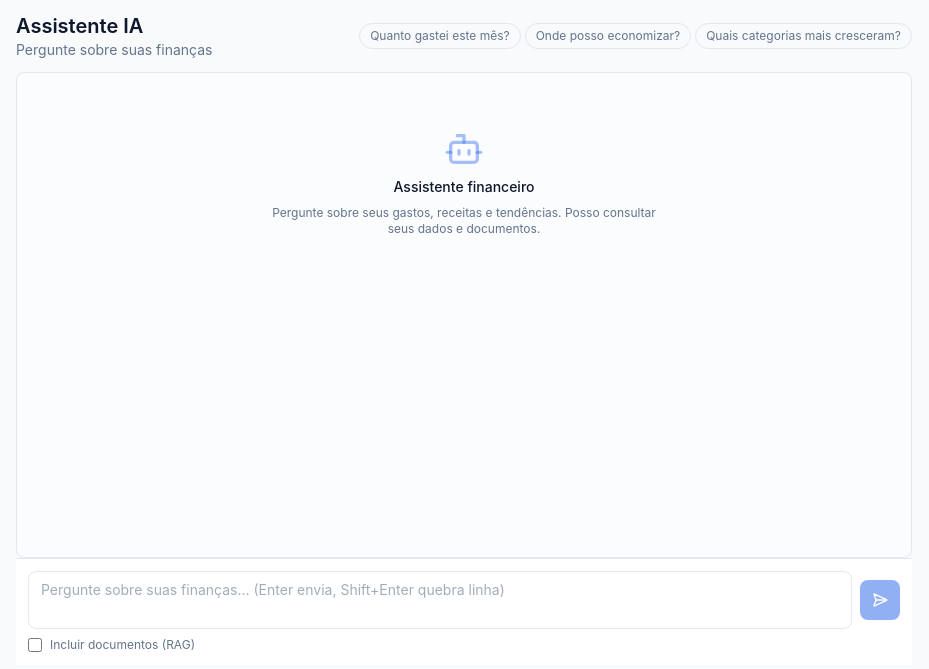
ChatView › envia pergunta e exibe resposta com sources
Replace the text in the text box with test id "chat-input" with "quanto gastei?": {"x": 440, "y": 600} [28, 571, 852, 629]
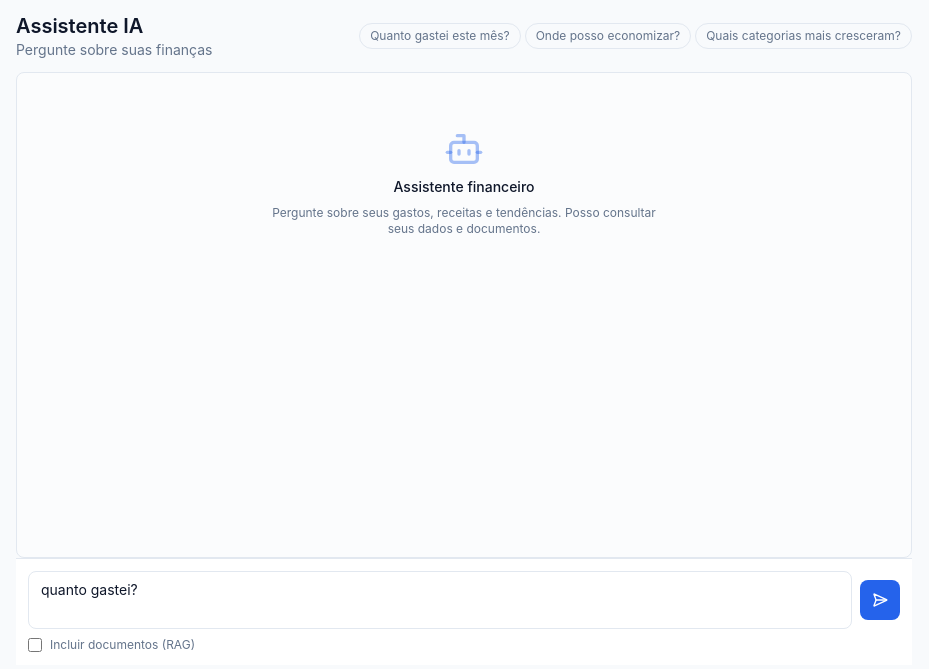
Click the button with test id "chat-send": {"x": 880, "y": 600} [860, 580, 900, 620]
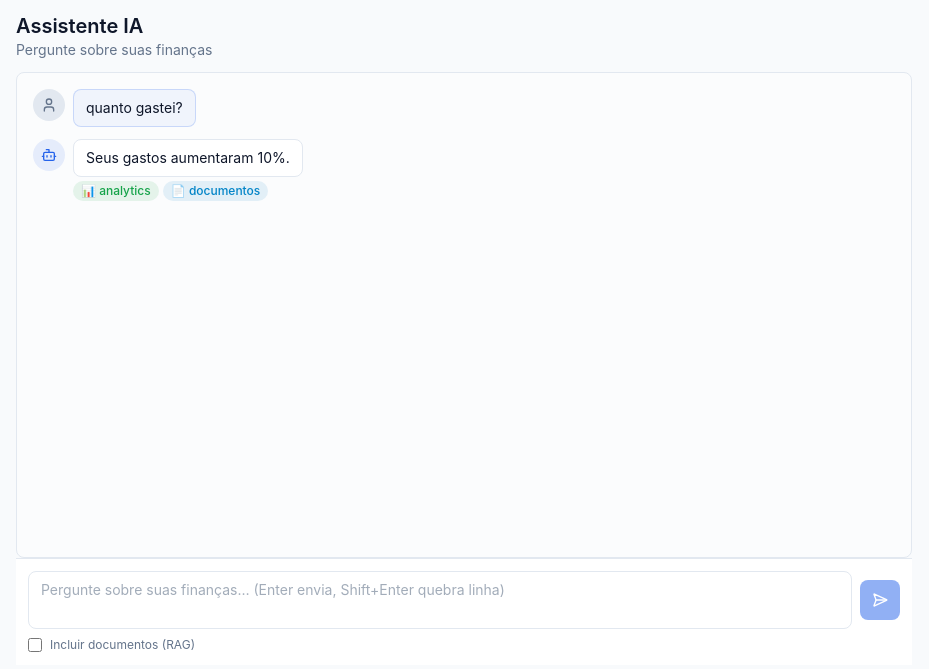
Expected: the text "quanto gastei?" is shown, [86, 98, 183, 118]
Expected: the text "aumentaram 10%" is shown, [86, 149, 290, 166]
Expected: the text "analytics" is shown, [81, 183, 151, 198]
